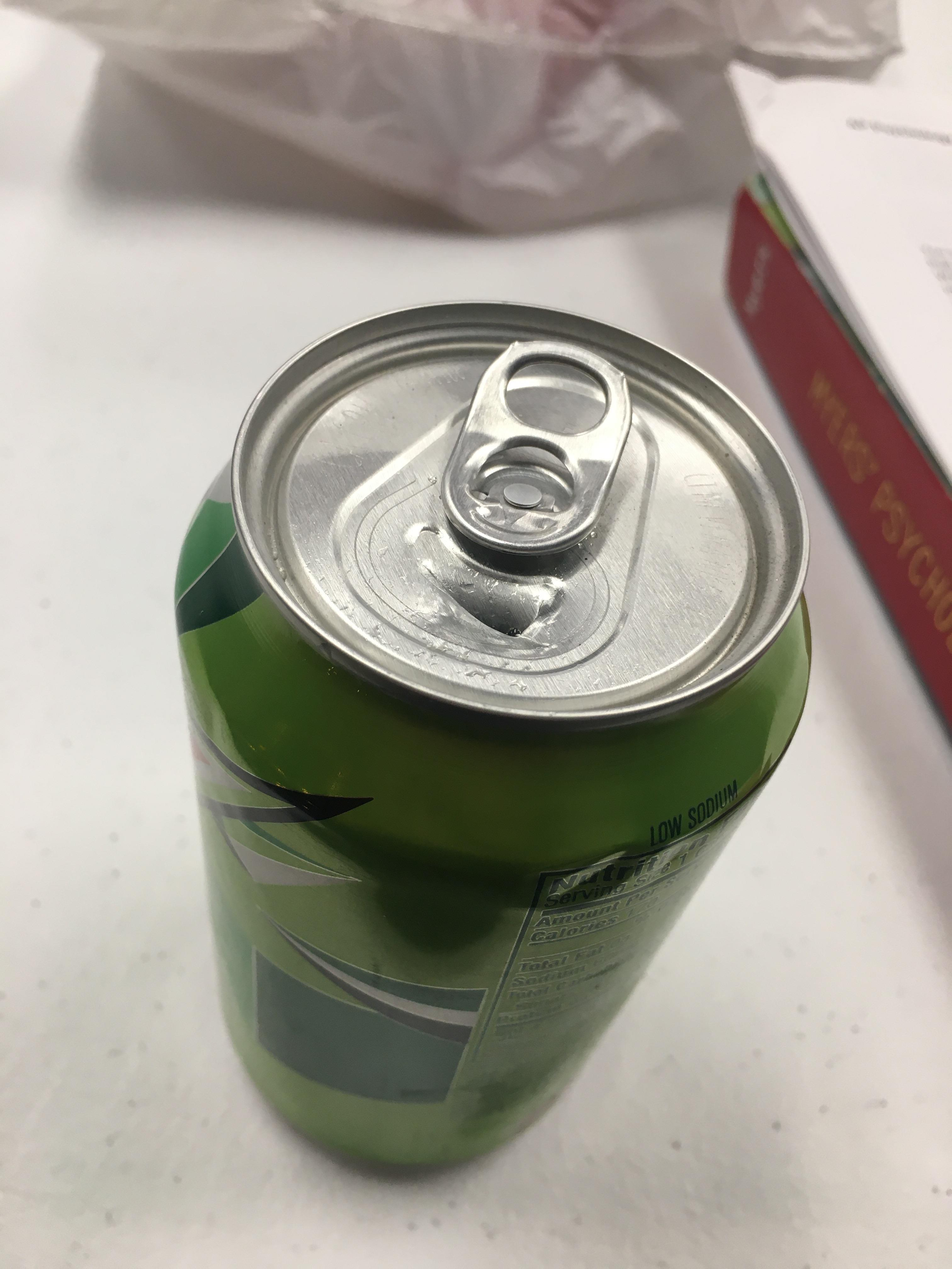metal: (174, 302, 810, 1167)
